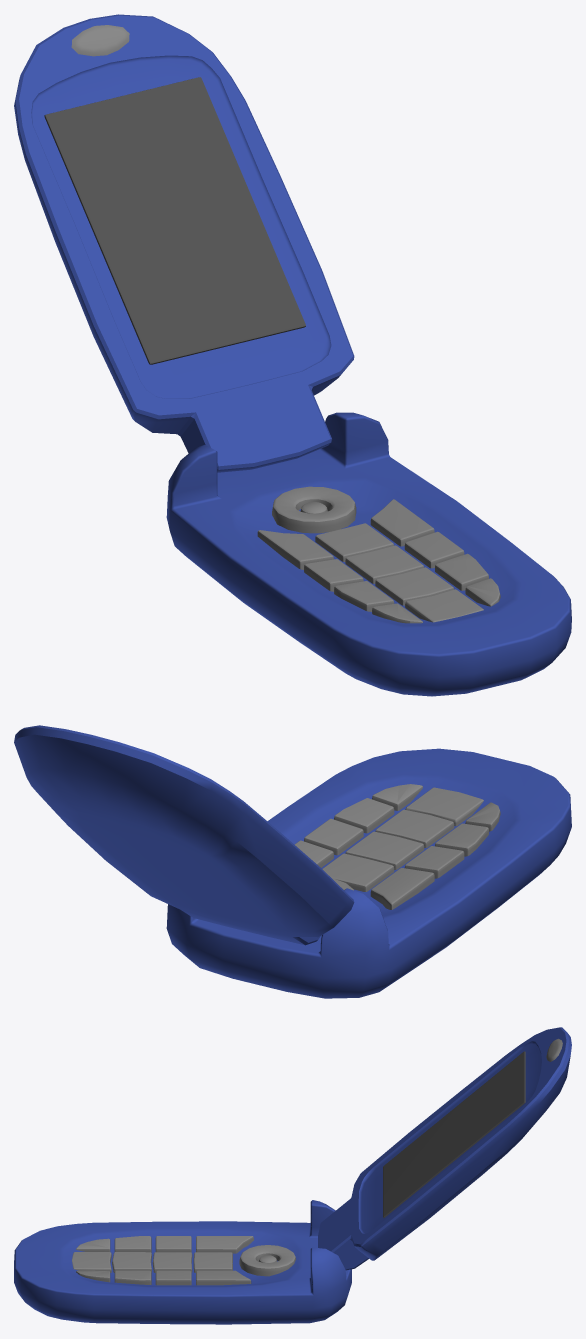
File: geo_flipPhone_Open.fbx
3 views of the same model, one above another, from view 1: azimuth 30°, elevation 25°; view 2: azimuth 150°, elevation 25°; view 3: azimuth 270°, elevation 25° (orthographic). The views are drawn at different scales.
Parts seen in each view (by area): view 1: flipPhone_Open_GEO; view 2: flipPhone_Open_GEO; view 3: flipPhone_Open_GEO.
Part boxes in pixels (x1,y1,x2,y2): flipPhone_Open_GEO: (14,14,571,696); flipPhone_Open_GEO: (14,725,571,998); flipPhone_Open_GEO: (14,1027,571,1324).
Bounding box in the file's own units: 9.05 × 14.41 × 28.19.
